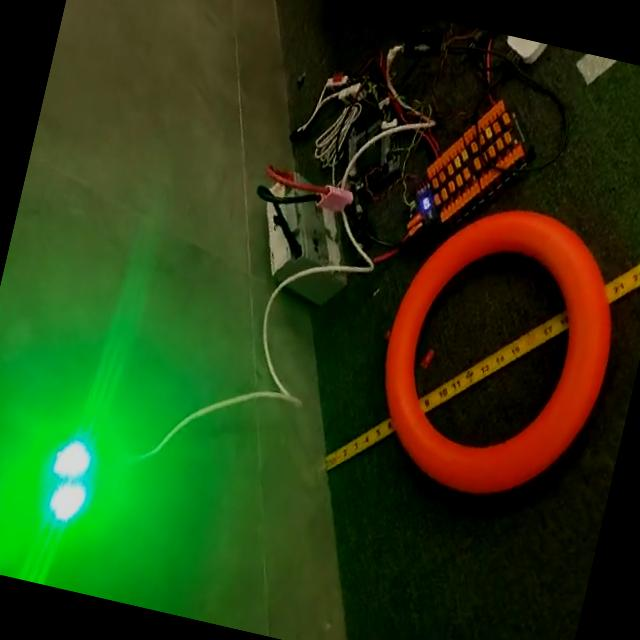note: (354, 184, 640, 521)
